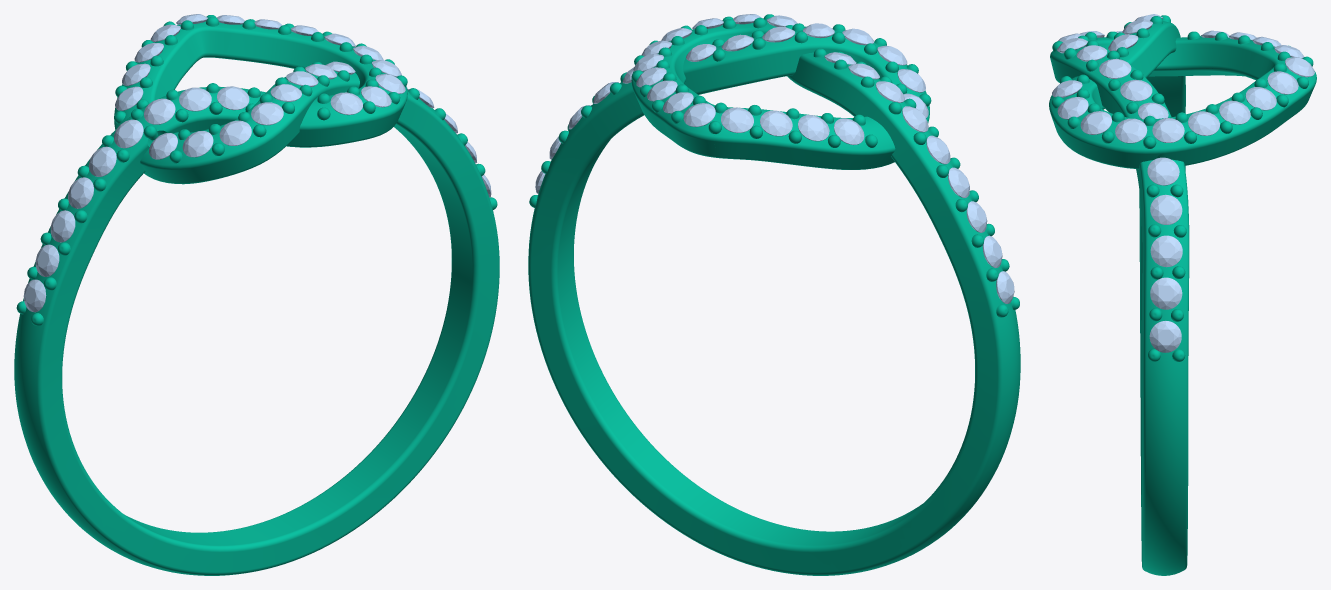
3 renders of one model, left to right at view 1: azimuth 30°, elevation 25°; view 2: azimuth 150°, elevation 25°; view 3: azimuth 270°, elevation 25°, orthographic. The views are drawn at different scales.
Parts seen in each view (by area): view 1: uploads_files_2655136_Ring.3dm, GemOnCrv (×11); view 2: uploads_files_2655136_Ring.3dm, GemOnCrv (×5); view 3: uploads_files_2655136_Ring.3dm, GemOnCrv (×17), Diamond_Round (×2).
Boxes of the visible parts, x1,y1,x2,y2 form: uploads_files_2655136_Ring.3dm: (14, 21, 499, 575); GemOnCrv (×11): (35, 86, 283, 276); uploads_files_2655136_Ring.3dm: (528, 20, 1020, 575); GemOnCrv (×5): (683, 103, 864, 145); uploads_files_2655136_Ring.3dm: (1049, 21, 1316, 575); GemOnCrv (×17): (1052, 57, 1314, 352); Diamond_Round (×2): (1076, 45, 1168, 119).
Bounding box in the file's own units: 2.64 × 2.7 × 1.31.
